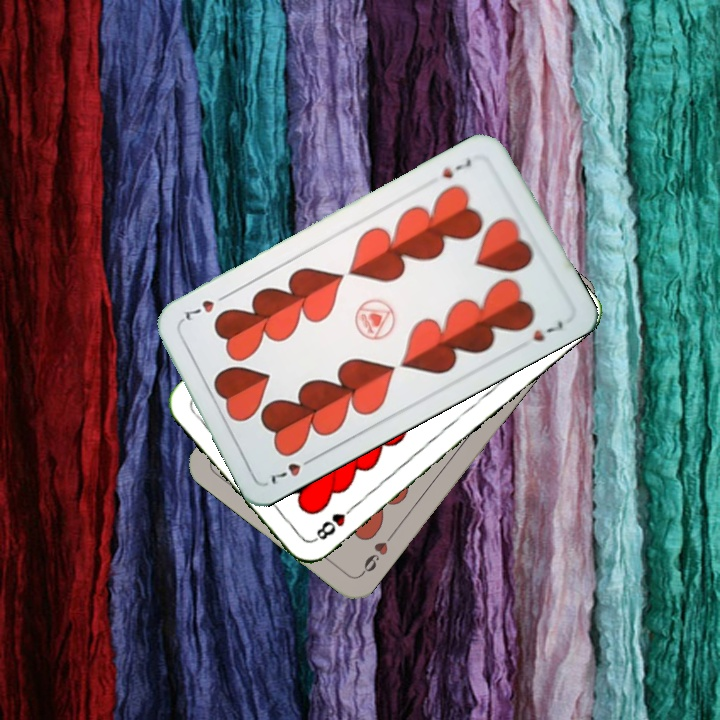H7: (264, 452, 318, 487), (438, 155, 474, 182)
H8: (310, 500, 358, 544)
H9: (357, 527, 397, 578)
